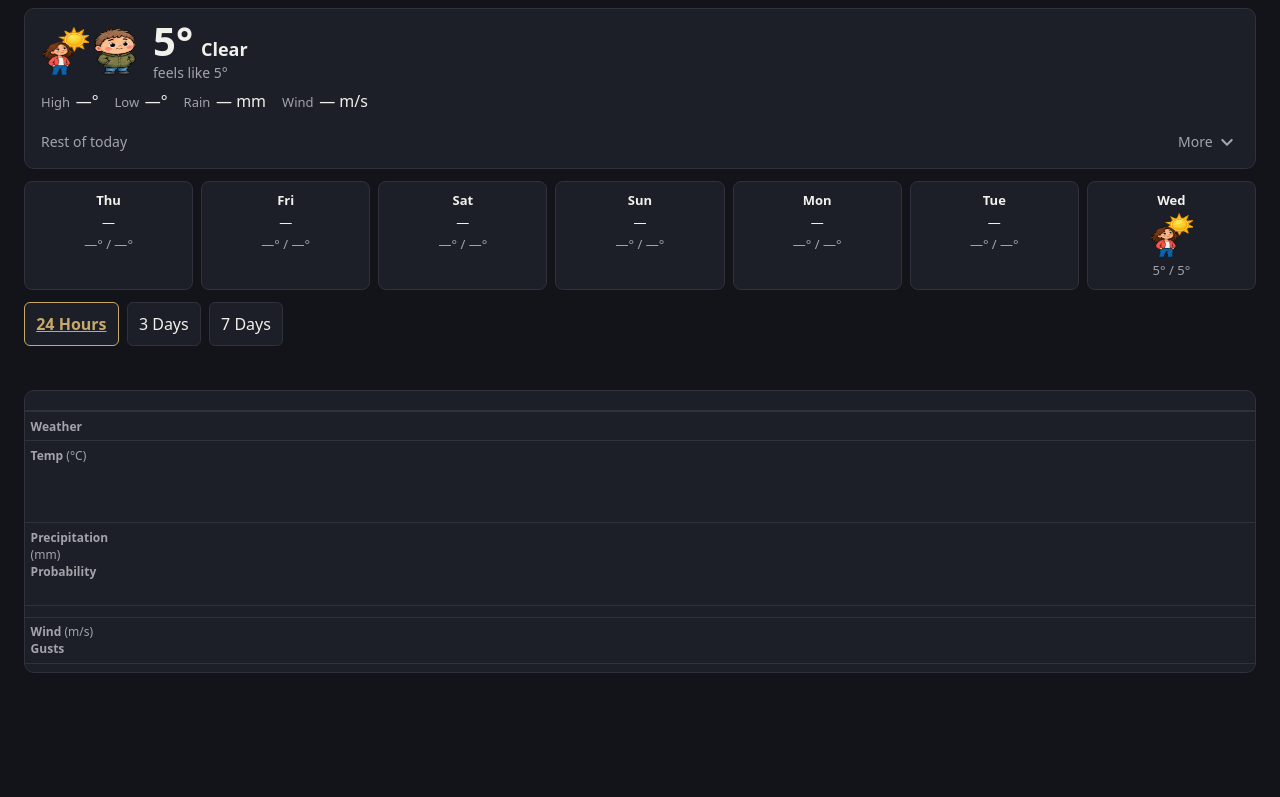
US2: synchronized 7-day timeline › shows a forecast day distinguished the same way as a forecast hour
Click the button "7 Days" at [246, 324], box [209, 302, 283, 346]
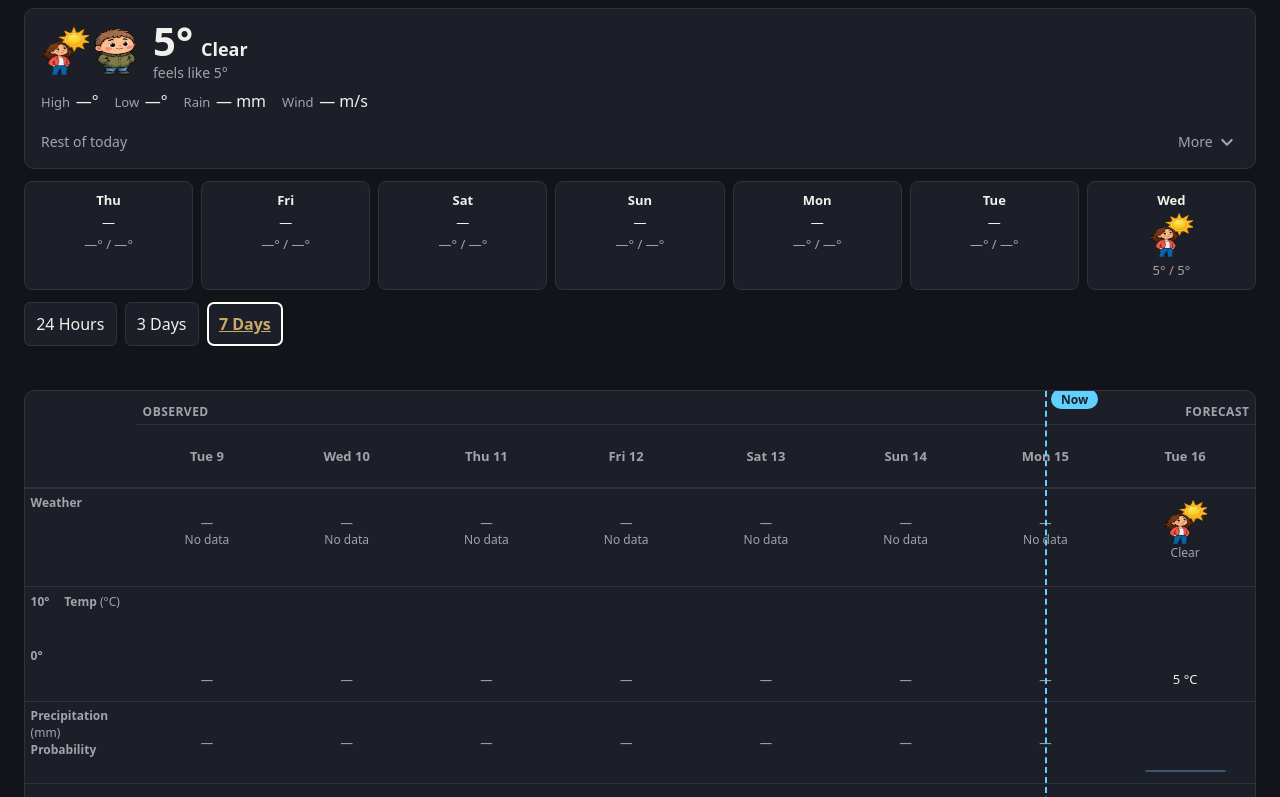
Now the text "Forecast" is shown, box [1115, 399, 1255, 425]
